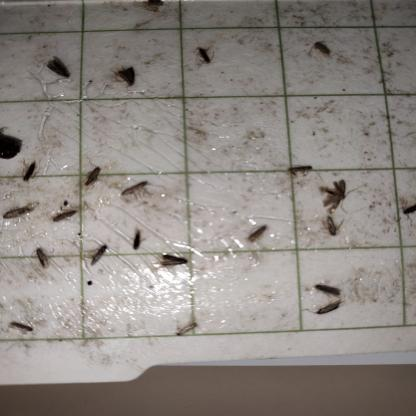prays_oleae: (241, 208, 277, 270), (171, 306, 210, 353), (283, 146, 322, 183), (157, 238, 193, 278), (318, 173, 352, 215), (44, 48, 73, 94), (112, 60, 140, 100), (2, 200, 42, 227), (122, 175, 152, 209), (6, 312, 39, 341), (312, 297, 346, 325), (194, 35, 218, 74), (125, 216, 145, 262), (18, 150, 44, 185), (309, 276, 346, 298), (84, 238, 109, 270), (81, 164, 103, 200), (311, 38, 337, 62), (54, 200, 78, 226), (322, 213, 348, 236), (31, 246, 54, 272), (401, 196, 416, 231)
